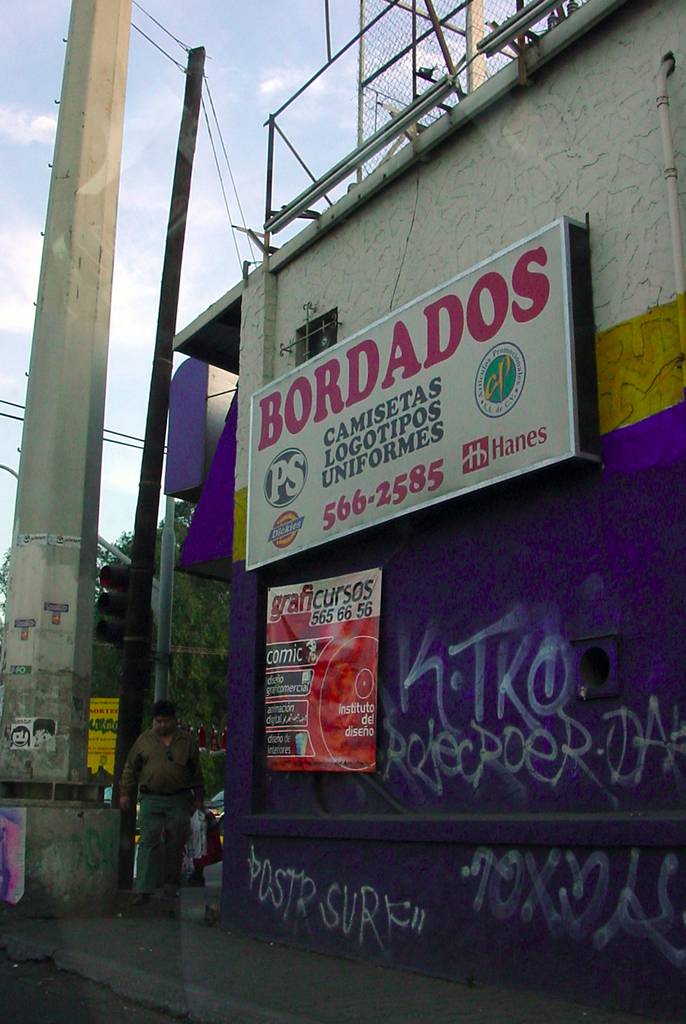signboard: (247, 221, 586, 571)
